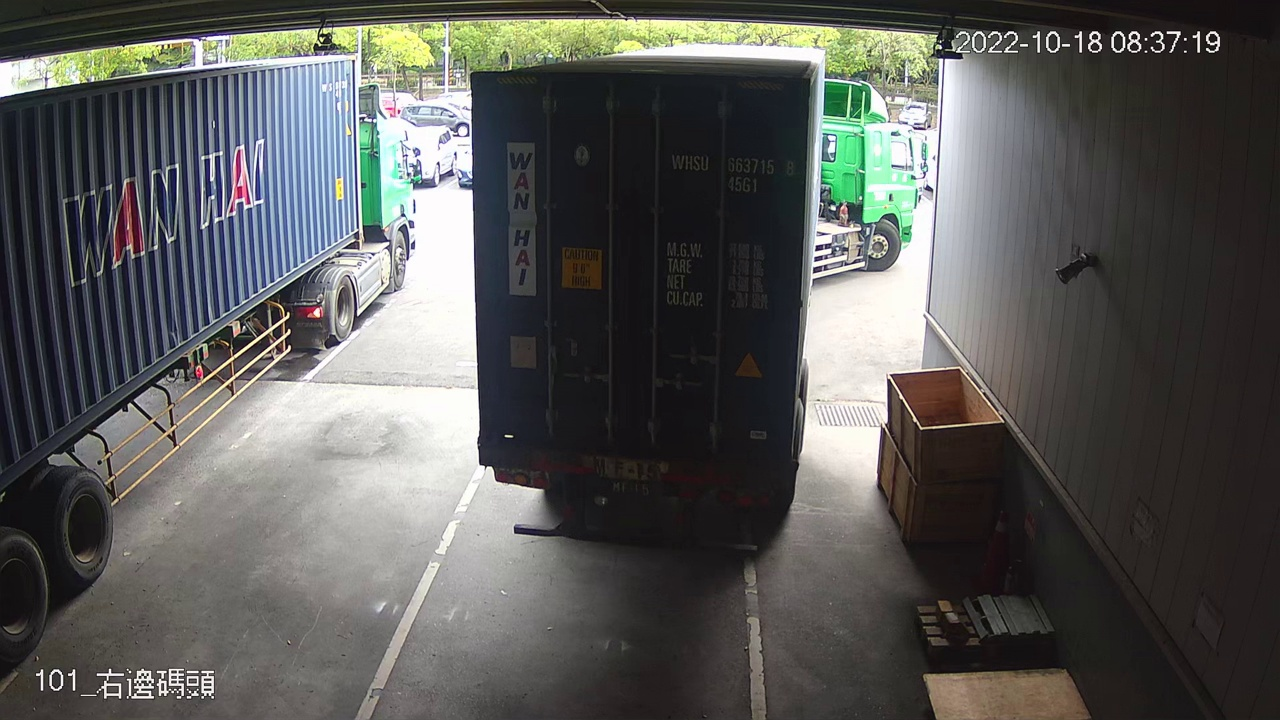container: (664, 147, 801, 200)
